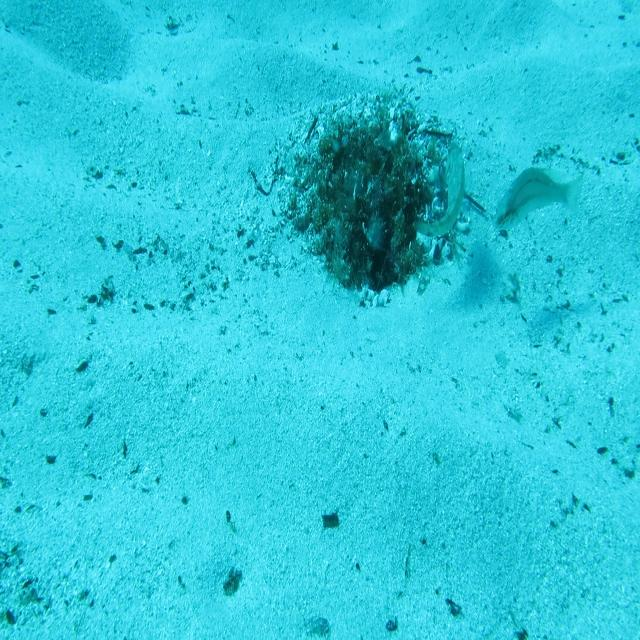ROLL: (412, 139, 466, 239)
core_nest: (344, 144, 390, 176)
female: (490, 164, 586, 234)
nest: (275, 78, 477, 314)
vegetation: (321, 512, 342, 532)
